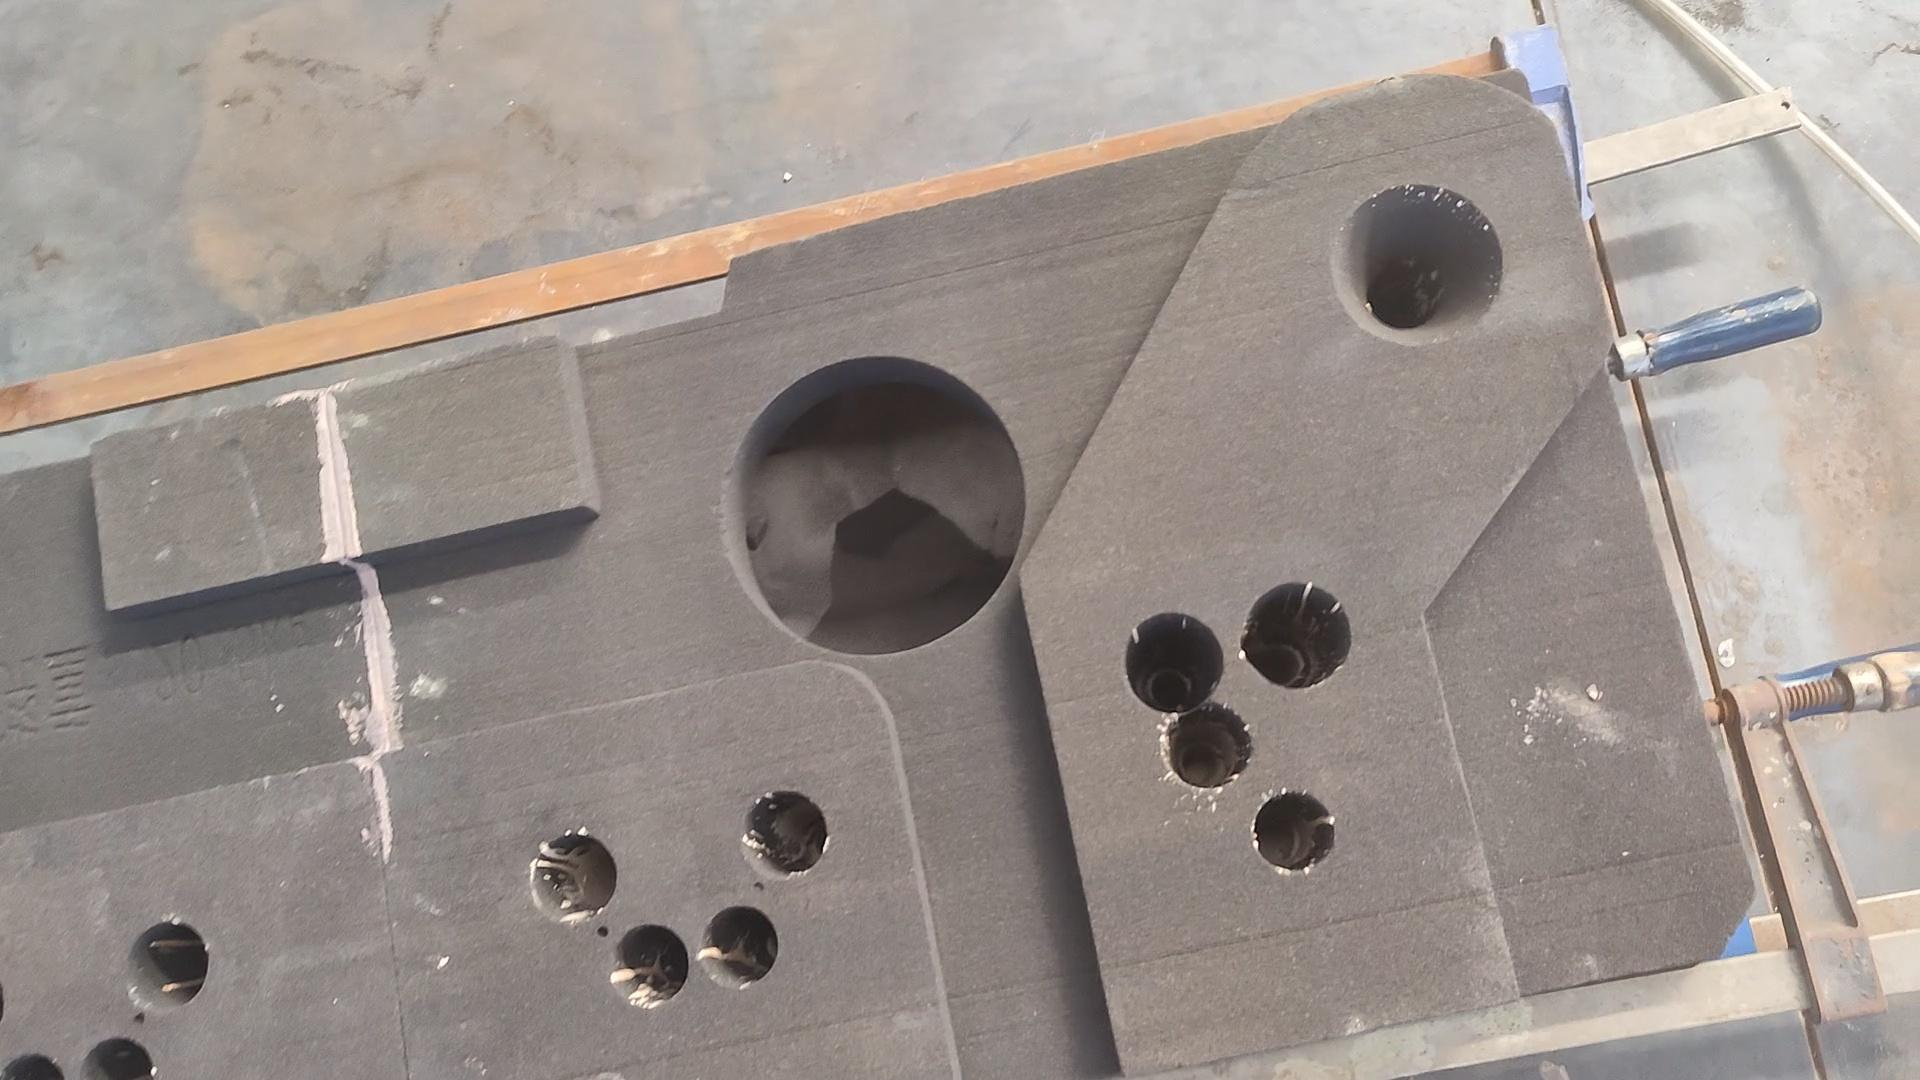pouring hole: (1328, 185, 1503, 342)
